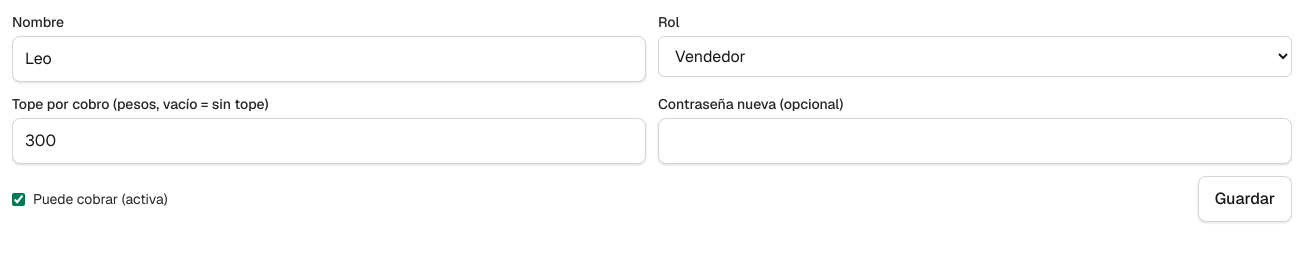
MemberEditForm › envía los cambios y confirma
What coordinates should you click on to do the following:
click the checkbox labelled "Puede cobrar (activa)"
I would click on:
 (18, 199)
Its box is [12,192,25,206].
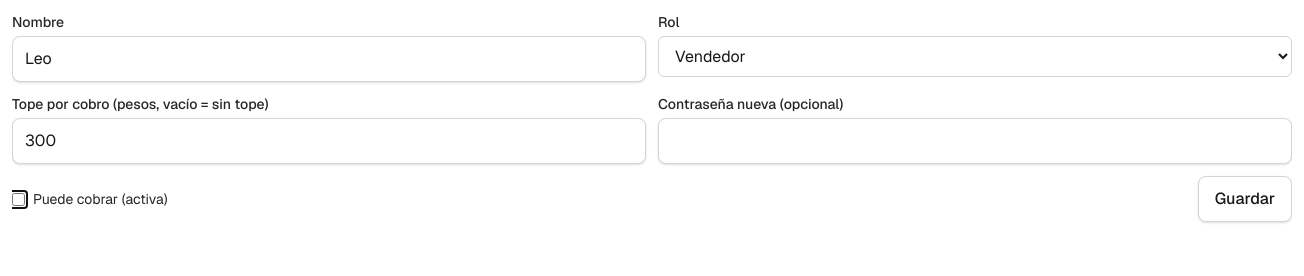
What coordinates should you click on to do the following:
click the button named "Guardar a Leo"
I would click on:
 (1245, 199)
Its box is [1198,176,1292,222].
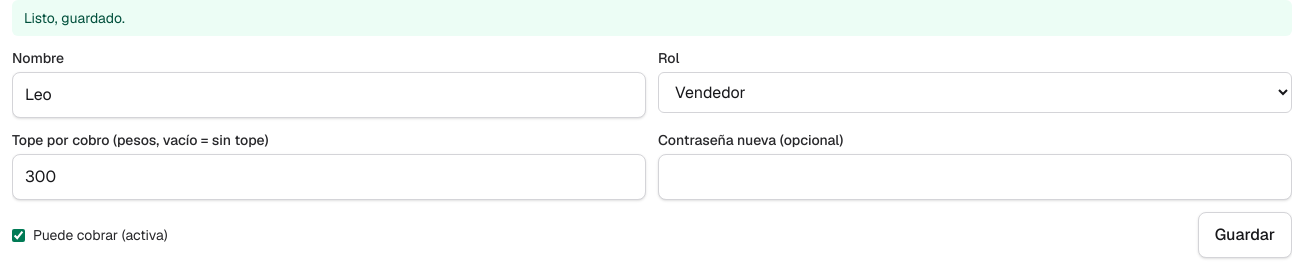
Now the message reads "Listo, guardado.", box [24,9,125,27]
